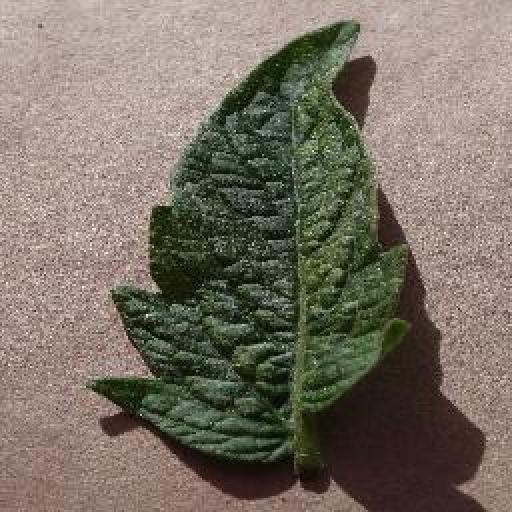disease_tomato: (86, 19, 410, 464)
